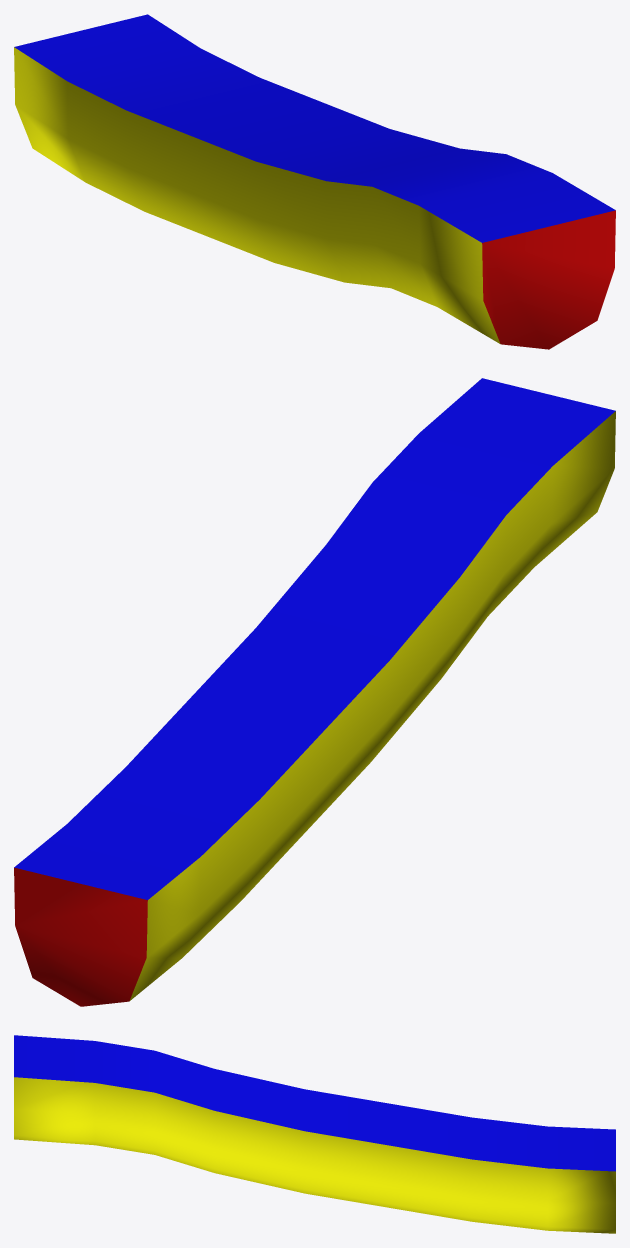
The picture shows the model from 3 angles, top to bottom: view 1: azimuth 30°, elevation 25°; view 2: azimuth 150°, elevation 25°; view 3: azimuth 270°, elevation 25°; orthographic projection. The views are drawn at different scales.
Parts seen in each view (by area): view 1: polySurface124; view 2: polySurface124; view 3: polySurface124.
Boxes of the visible parts, x1=… form: polySurface124: x1=14, y1=14, x2=615, y2=349; polySurface124: x1=14, y1=378, x2=615, y2=1006; polySurface124: x1=14, y1=1035, x2=615, y2=1233.
Size of the model in its own units: 23.58 by 45.4 by 143.
